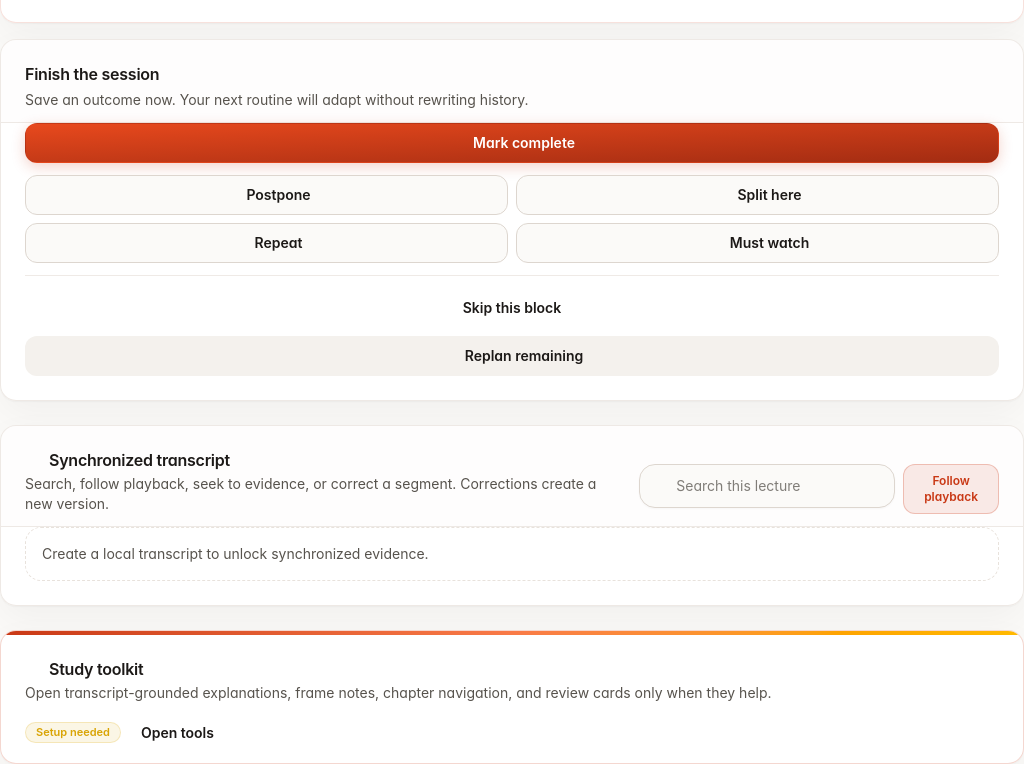
PlayerRoute › shows the safe busy message when another transcription already owns the lecture
(page scrolled)
What coordinates should you click on to do the following:
click the button "Open tools"
I would click on:
 (189, 733)
Its box is [129,715,250,751].
(page scrolled)
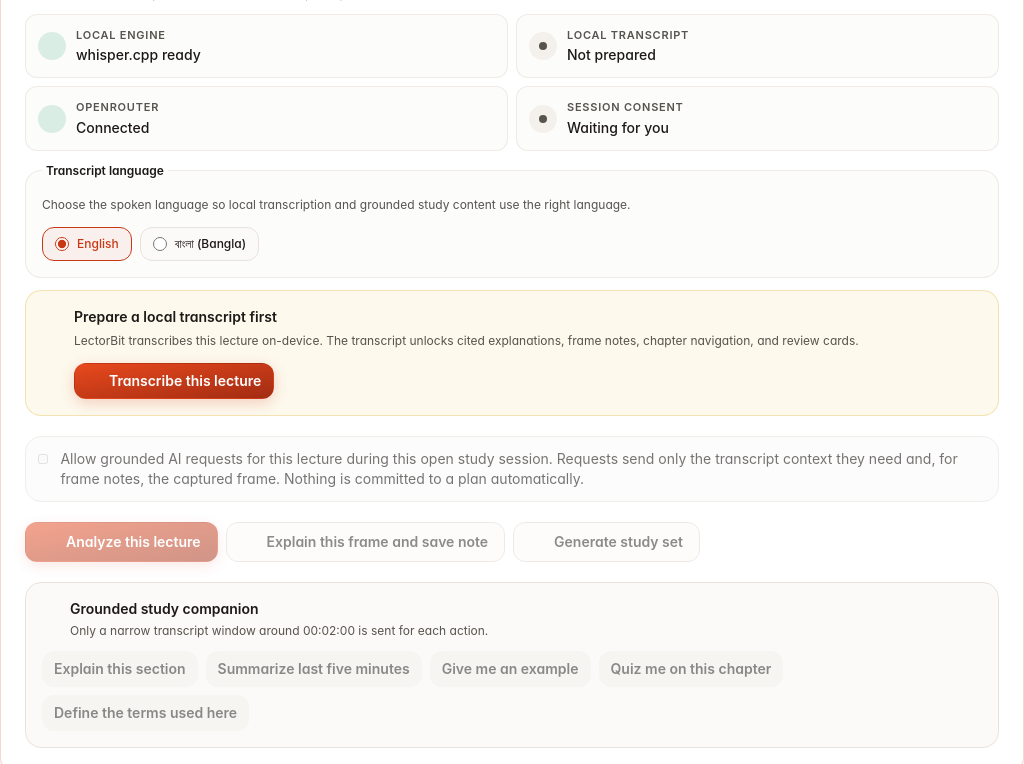
What coordinates should you click on to do the following:
click the button "Transcribe this lecture"
I would click on:
 (174, 381)
Its box is [74,363,274,399].
(page scrolled)
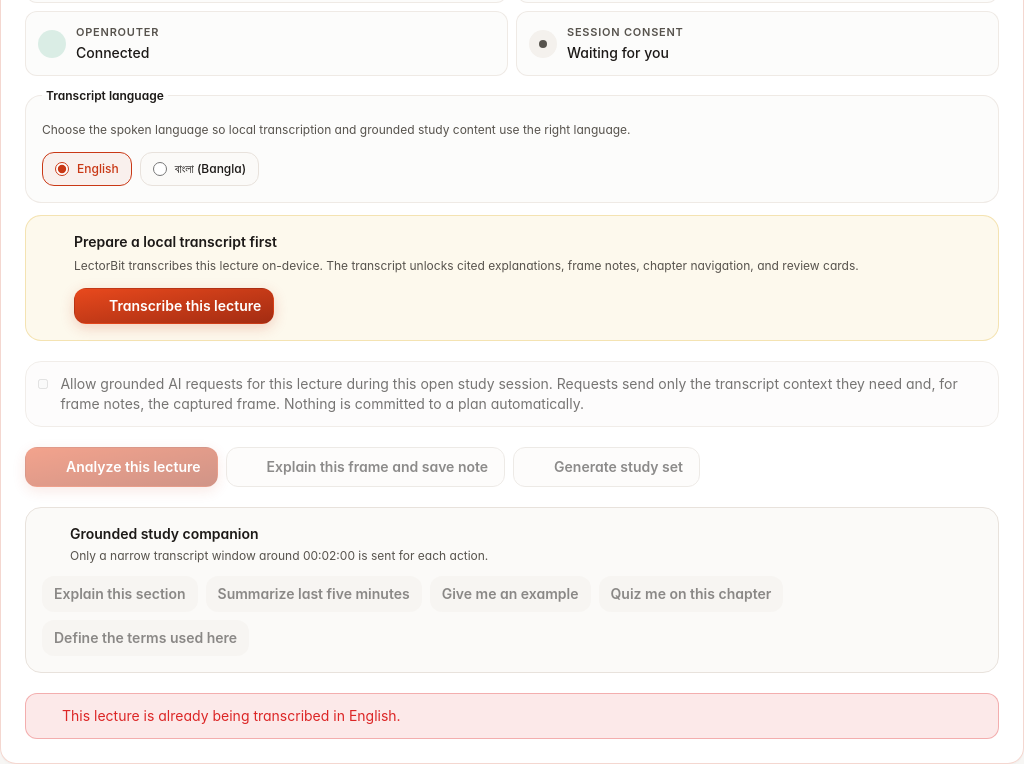
Check: the text "This lecture is already being transcribed in English." is shown, box [62,706,401,726]
